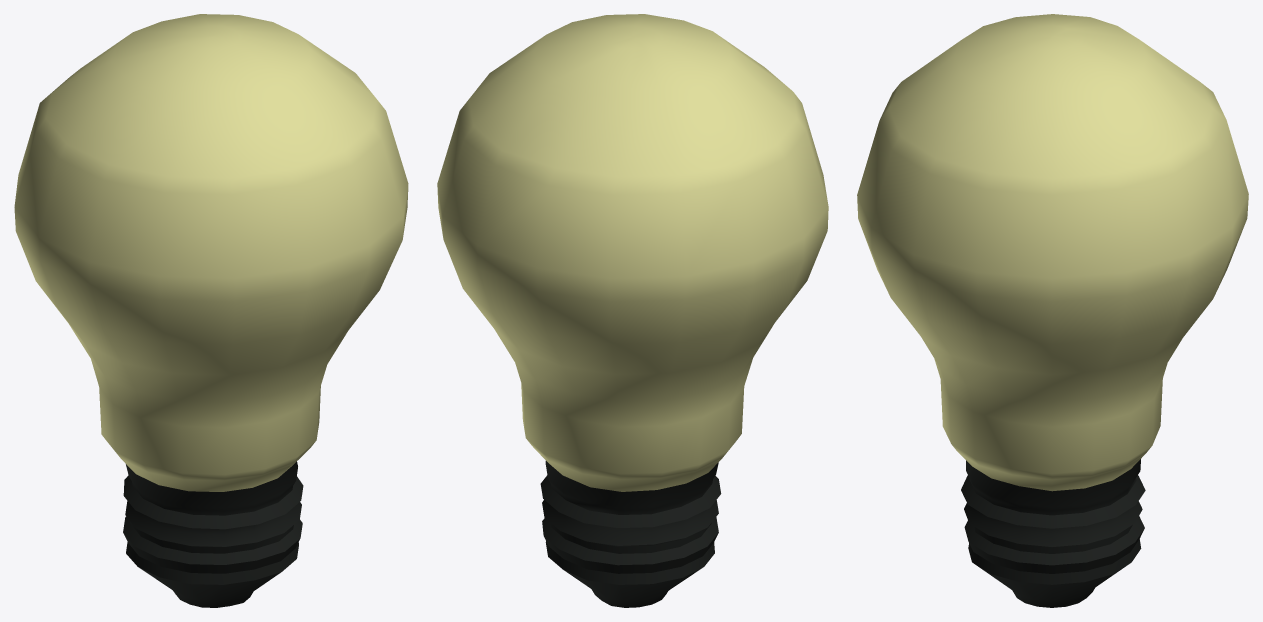
File: Lightbulb.fbx
3 renders of one model, left to right at view 1: azimuth 30°, elevation 25°; view 2: azimuth 150°, elevation 25°; view 3: azimuth 270°, elevation 25°, orthographic.
Visible parts, largest first — view 1: Line001; view 2: Line001; view 3: Line001.
Boxes of the visible parts, left/top/right/bottom form: Line001: left=14, top=14, right=408, bottom=607; Line001: left=437, top=14, right=828, bottom=607; Line001: left=857, top=14, right=1248, bottom=607.
Bounding box in the file's own units: 20.79 × 32.31 × 20.61.
